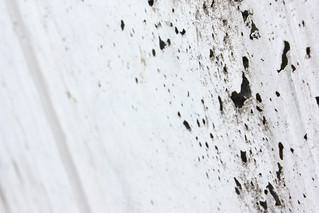Spalling: (120, 1, 319, 213)
